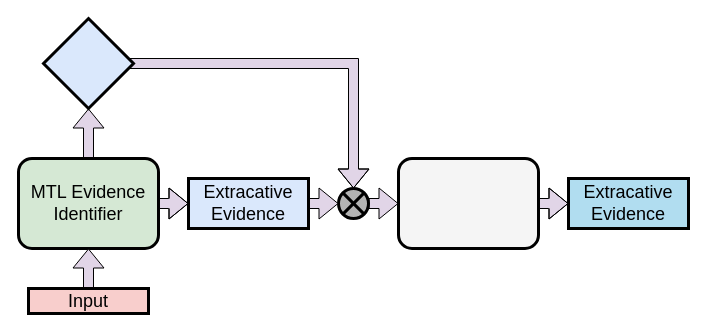
Image size: 707x332. Some labels were removed from this diagram. The shapes that lost their labels are listed below. From the top down, each one's centre as x and y in pixels, then its label:
(88,63): Aux Task
(468,203): Interpretable Classifier
